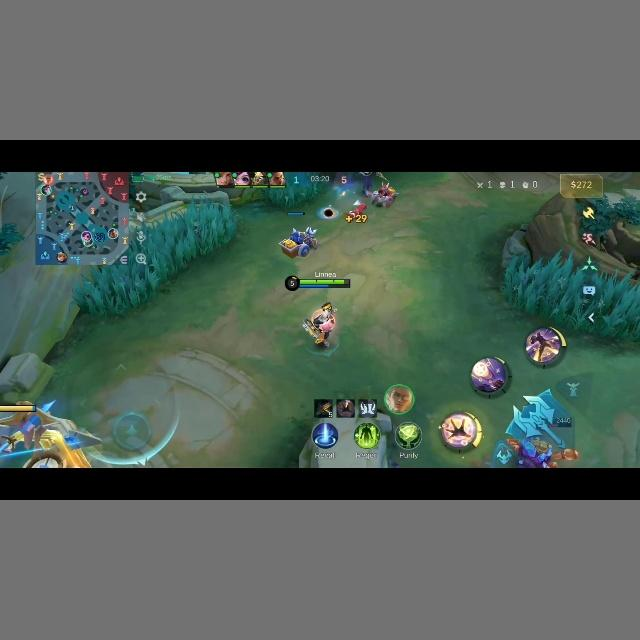hp_self: (0, 404, 36, 413), (299, 278, 346, 284), (287, 211, 304, 216)
minion_ally: (278, 226, 317, 258)
minion_enemy: (367, 182, 397, 207), (344, 202, 367, 222)
money_crab: (498, 435, 581, 467)
turret_ally: (0, 399, 103, 467)
